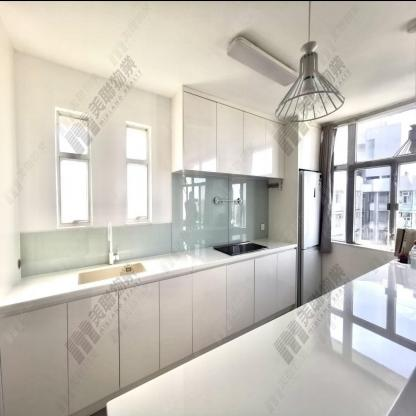Cupboard: (1, 245, 298, 415), (181, 85, 289, 179)
Faucet: (103, 218, 119, 265)
Fridge: (299, 168, 319, 305)
Sink: (78, 263, 144, 285)
